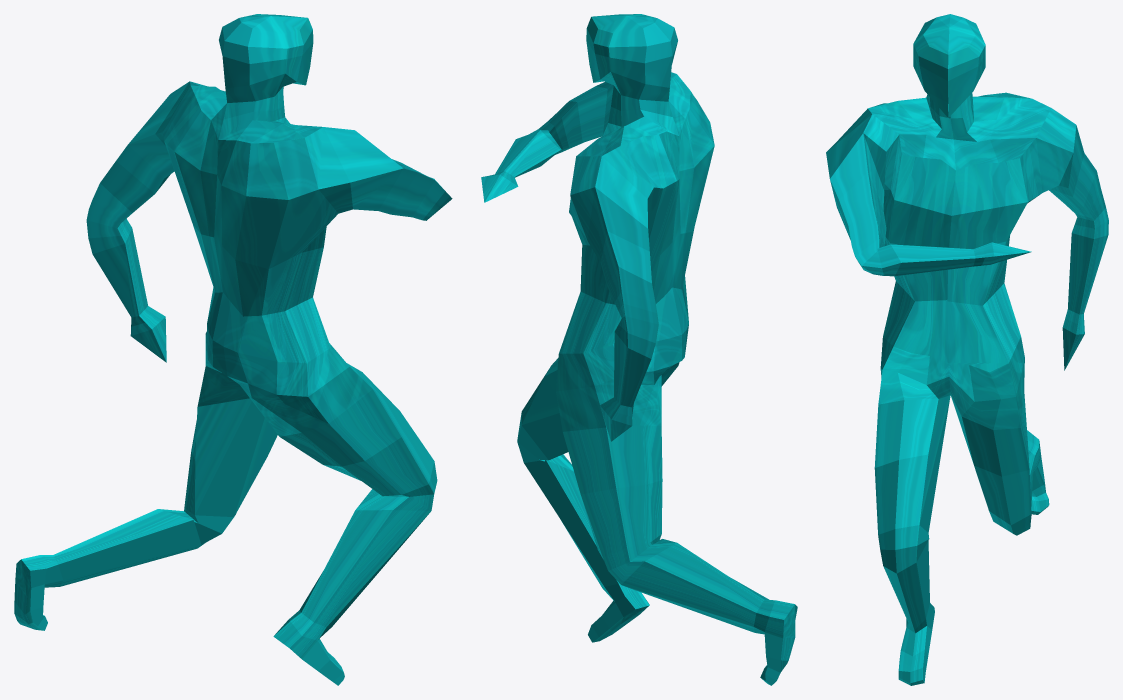
File: PlayerLock.obj
The picture shows the model from 3 angles, left to right: view 1: azimuth 30°, elevation 25°; view 2: azimuth 150°, elevation 25°; view 3: azimuth 270°, elevation 25°; orthographic projection. The views are drawn at different scales.
Parts seen in each view (by area): view 1: Cube; view 2: Cube; view 3: Cube.
Part boxes in pixels (x1=…): Cube: x1=14, y1=14, x2=452, y2=685; Cube: x1=481, y1=14, x2=797, y2=685; Cube: x1=826, y1=14, x2=1108, y2=685.
Size of the model in its own units: 3.31 by 6 by 2.42.
